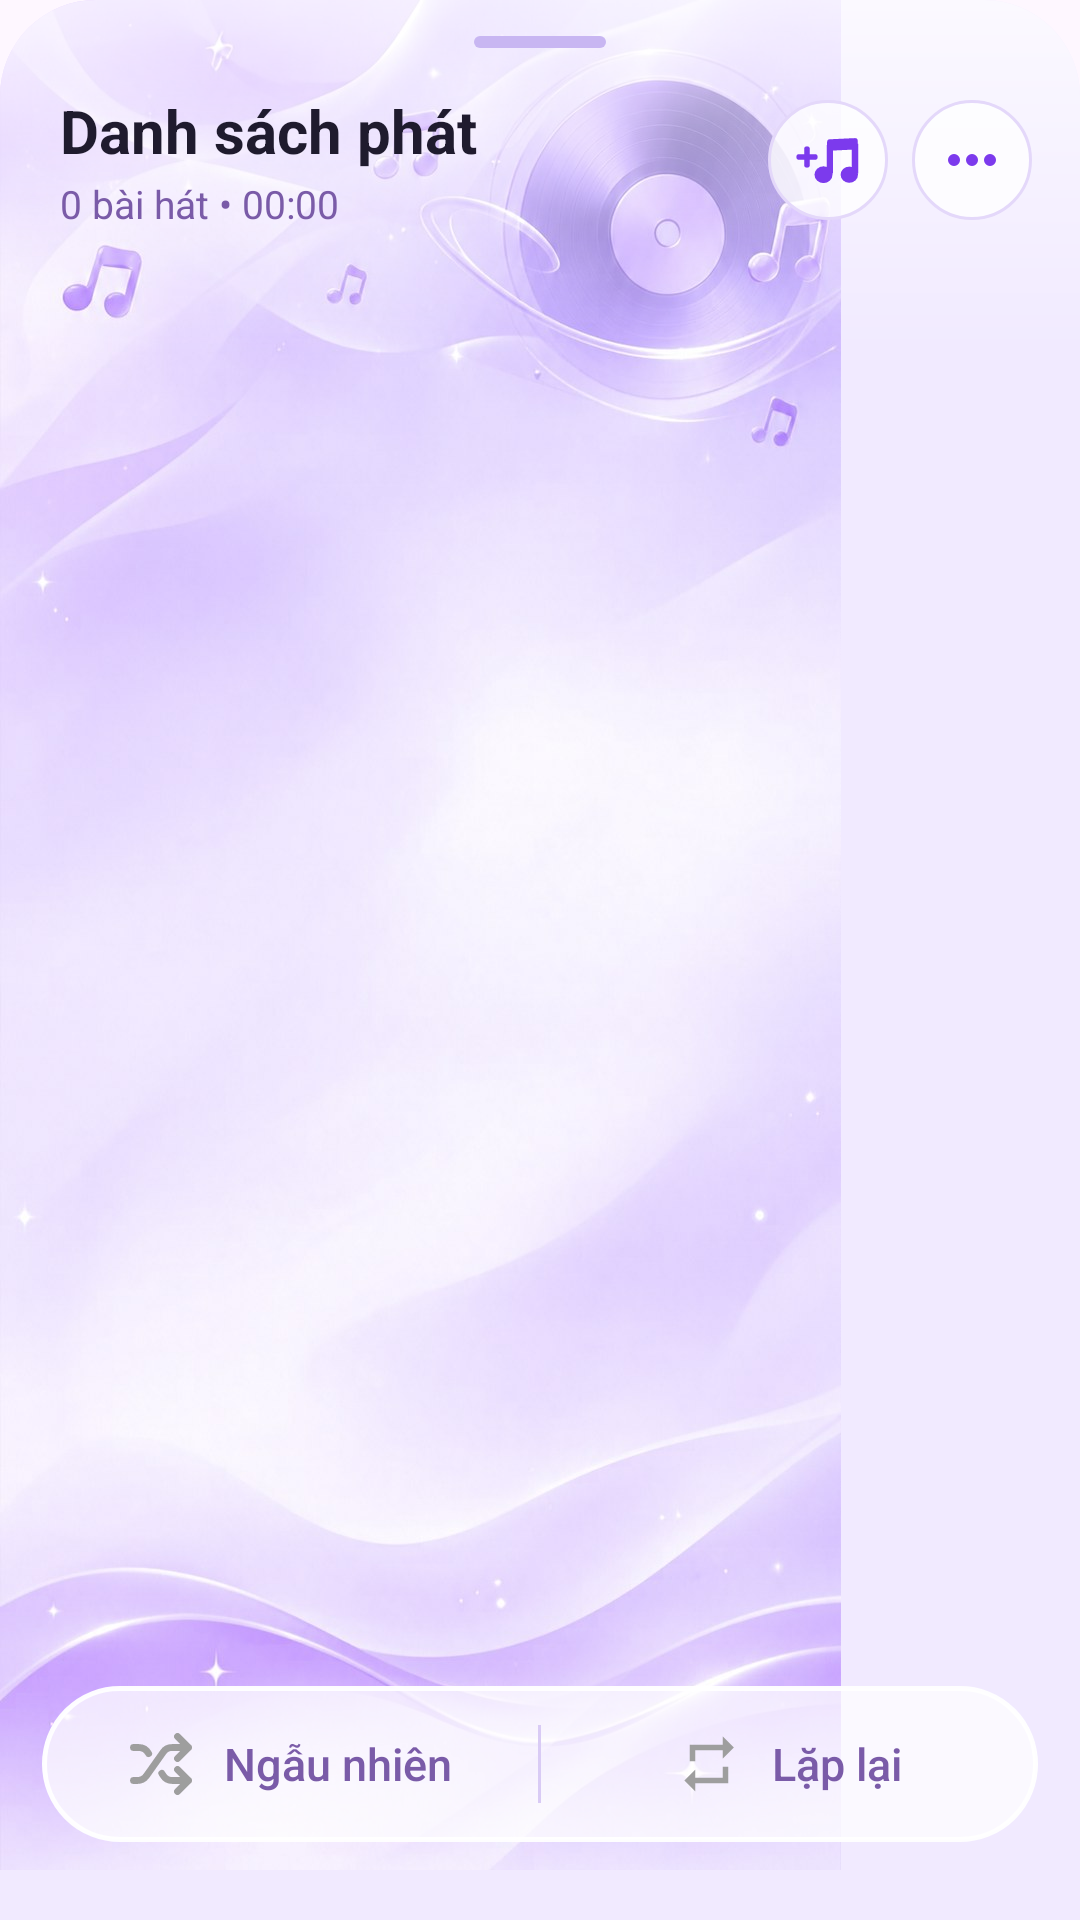

Where to tap for icons on this 1080 x 1920 app screen, as point (x, y):
repeat: point (709, 1764)
shuffle: point (161, 1764)
